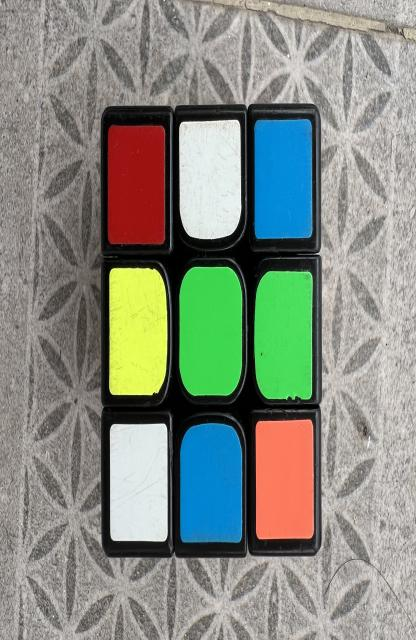Blue: (180, 423, 242, 543), (254, 118, 313, 238)
Green: (179, 267, 242, 397), (254, 272, 313, 400)
Orange: (255, 420, 314, 540)
Red: (107, 125, 165, 243)
White: (179, 120, 241, 240), (110, 423, 168, 542)
Yellow: (109, 268, 167, 395)
